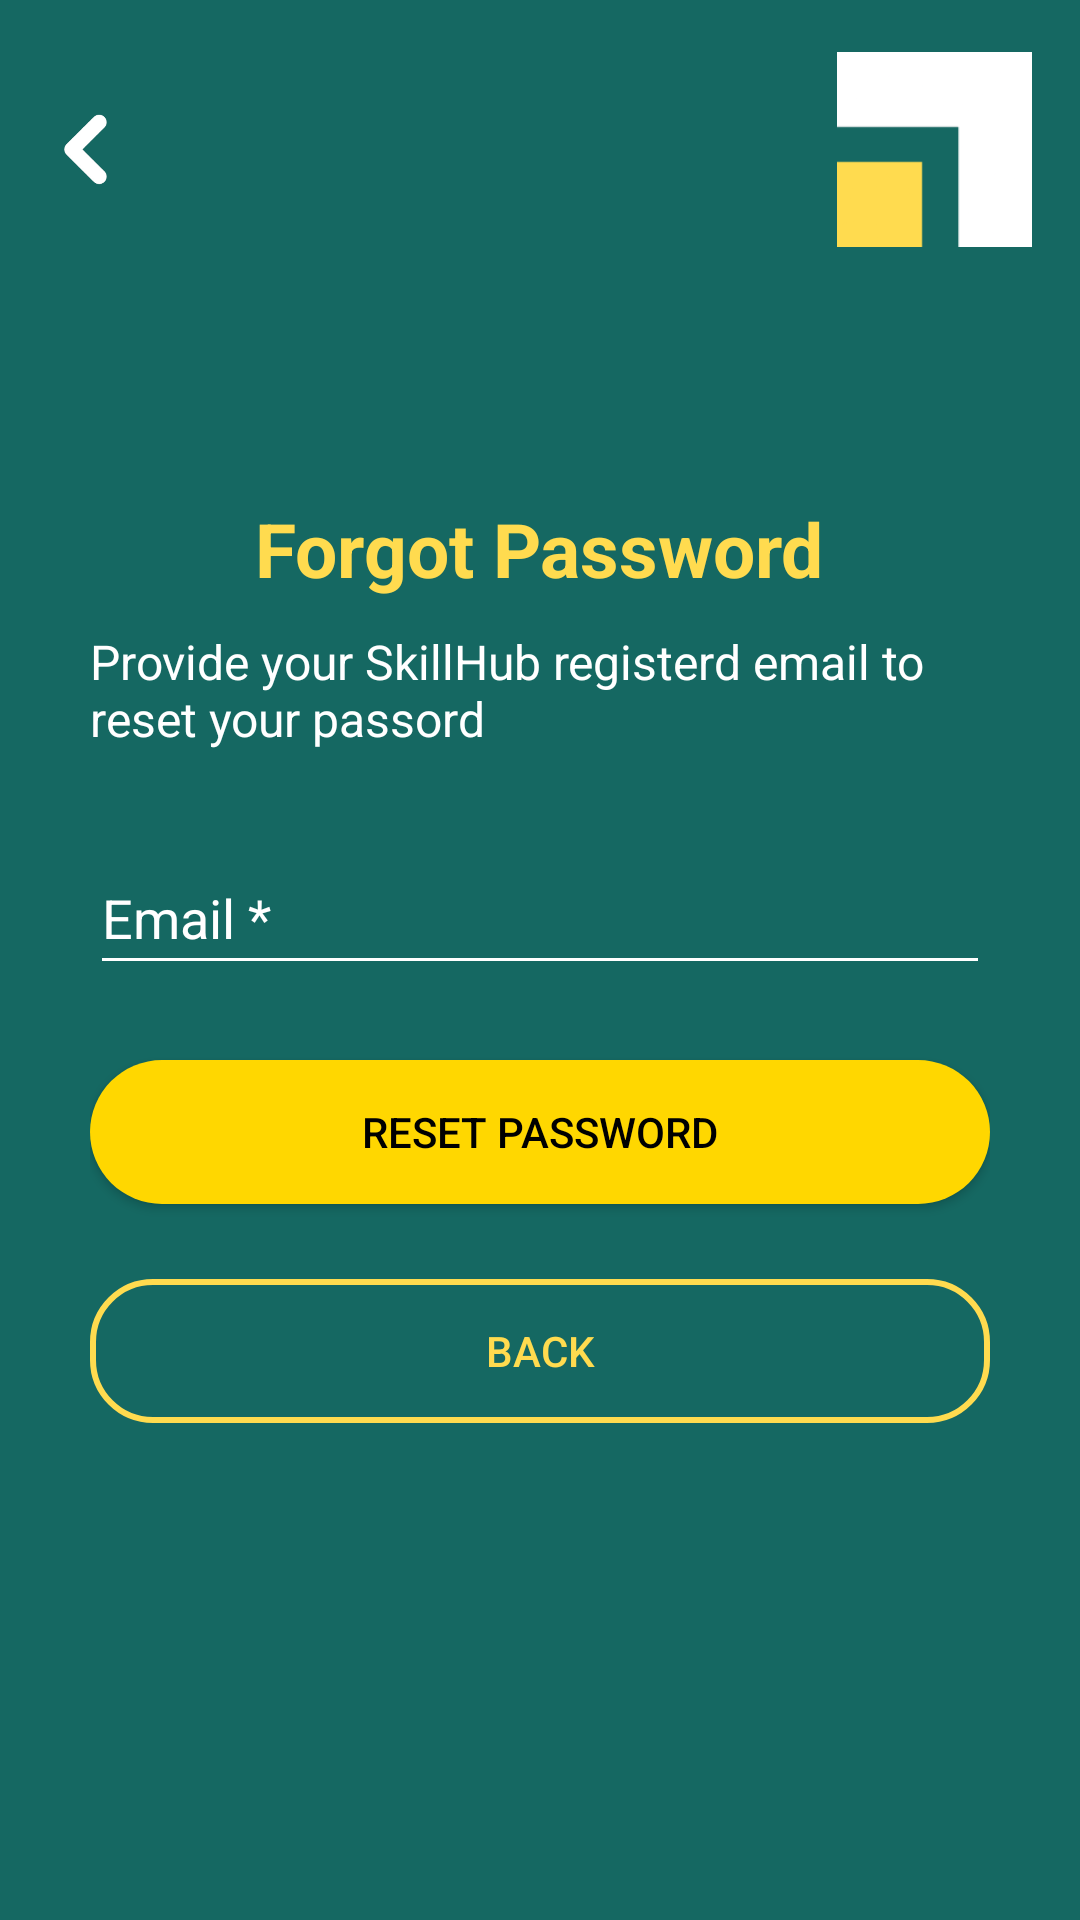

Named icons in this screenshot (1080*1920) and their bounding boxes, (x1, y1, x2, y2):
back: (64, 114, 107, 184)
